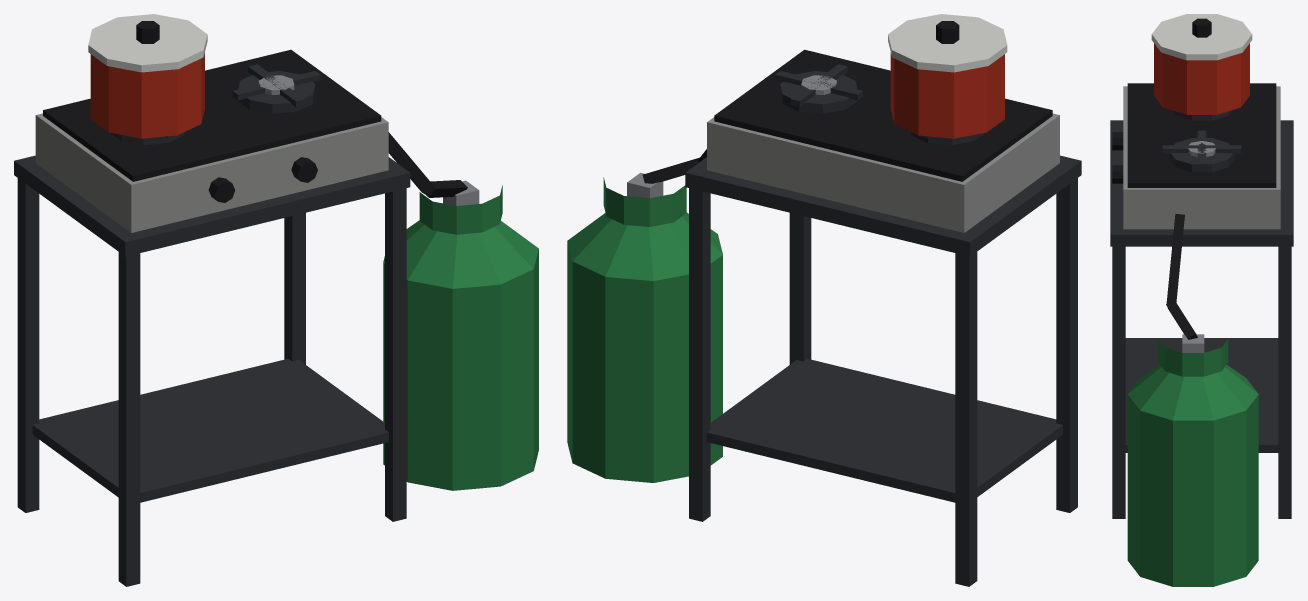
The model's file is prop_gas-cooker.glb.
3 views of the same model, side by side, from view 1: azimuth 30°, elevation 25°; view 2: azimuth 150°, elevation 25°; view 3: azimuth 270°, elevation 25° (orthographic). The views are drawn at different scales.
Visible parts, largest first — view 1: body; view 2: body; view 3: body.
Part boxes in pixels (box(x1,y1,x2,y2)): body: box(14, 14, 538, 586); body: box(567, 14, 1081, 586); body: box(1110, 14, 1293, 586).
Size of the model in its own units: 0.9826 by 1.05 by 0.42.
